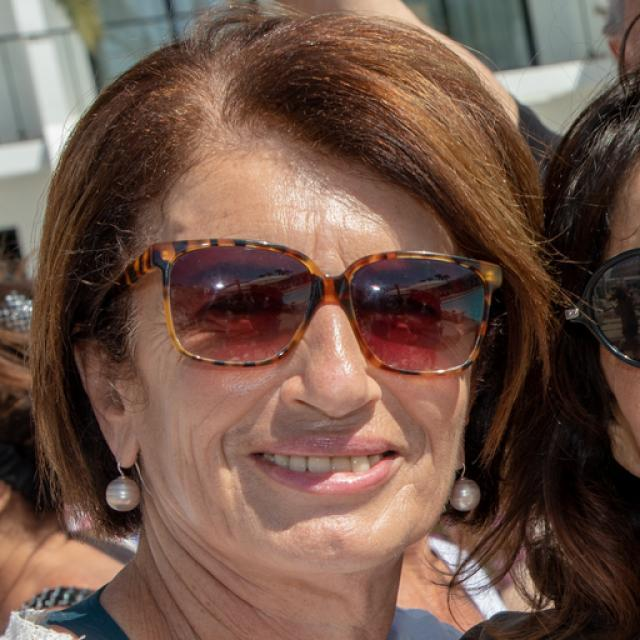disgust: (130, 149, 479, 575)
